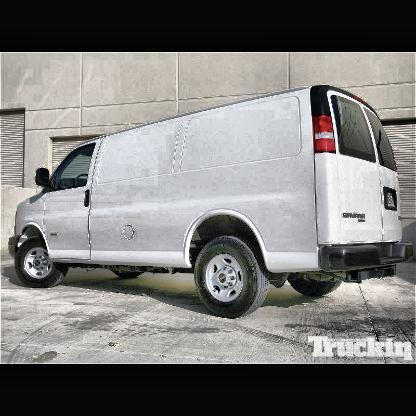GMC Savana Van 2012: (12, 85, 403, 322)
